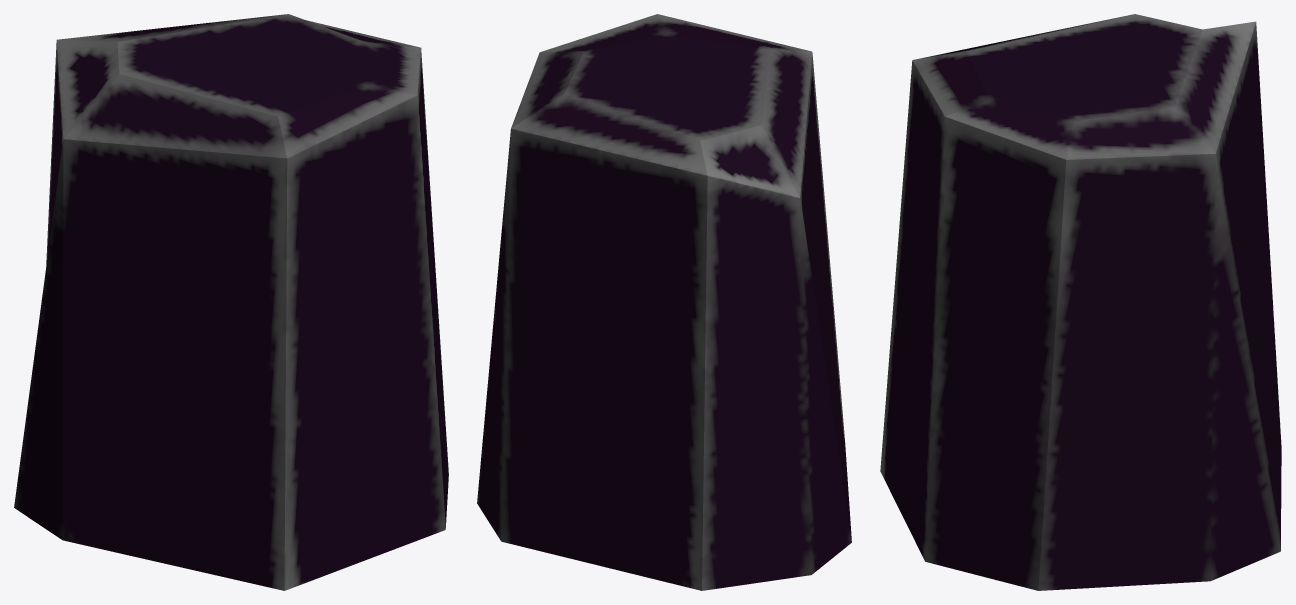
Rendered from Rock02_Art.glb.
The picture shows the model from 3 angles, left to right: view 1: azimuth 30°, elevation 25°; view 2: azimuth 150°, elevation 25°; view 3: azimuth 270°, elevation 25°; orthographic projection. The views are drawn at different scales.
Parts seen in each view (by area): view 1: Rock02_Art; view 2: Rock02_Art; view 3: Rock02_Art.
Part boxes in pixels (box(x1,y1,x2,y2)): Rock02_Art: box(14, 14, 448, 590); Rock02_Art: box(477, 14, 851, 590); Rock02_Art: box(880, 14, 1281, 590).
Bounding box in the file's own units: 0.2774 × 0.3193 × 0.265.
1 material, 1 textured.
